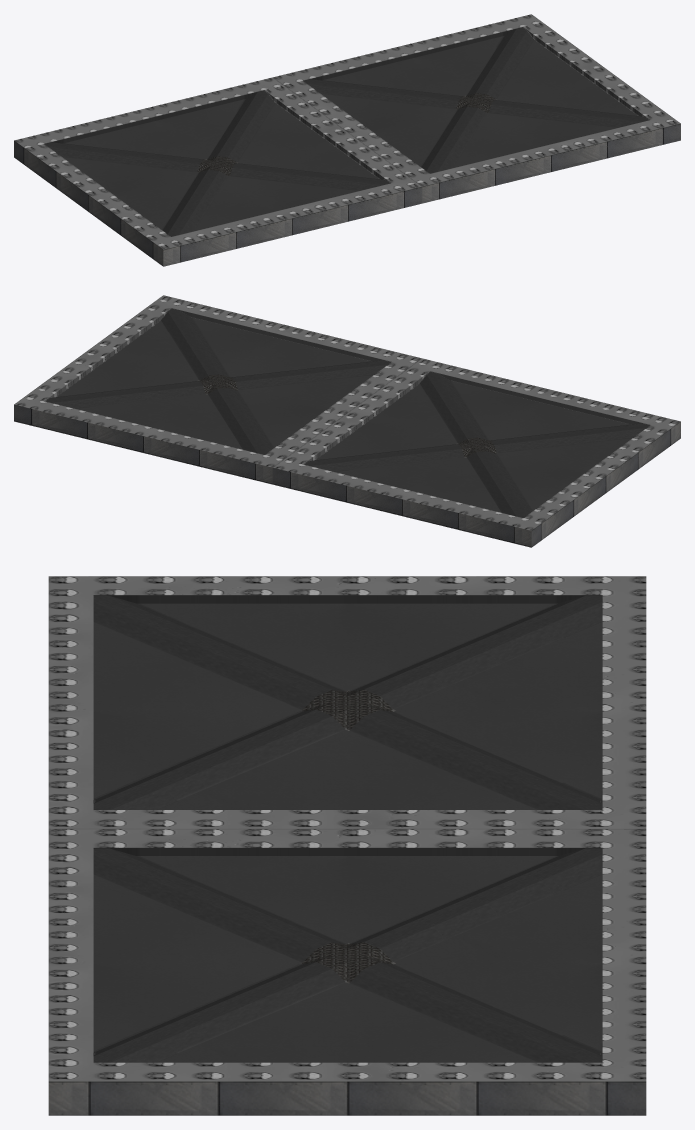
File: UMOD_Prop-Square-1x2_.fbx
3 renders of one model, top to bottom at view 1: azimuth 30°, elevation 25°; view 2: azimuth 150°, elevation 25°; view 3: azimuth 270°, elevation 25°, orthographic. The views are drawn at different scales.
Parts seen in each view (by area): view 1: pCube6, pCube7; view 2: pCube6, pCube7; view 3: pCube7, pCube6.
Boxes of the visible parts, <box> form: pCube6: <box>14,77,422,266</box>; pCube7: <box>273,14,680,203</box>; pCube6: <box>272,358,680,547</box>; pCube7: <box>14,295,421,484</box>; pCube7: <box>48,829,646,1115</box>; pCube6: <box>48,576,646,828</box>.
Bounding box in the file's own units: 16 × 0.5 × 8.
Materials: 1 (1 with a texture image).
